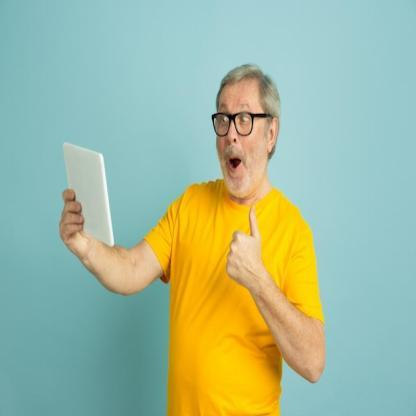thumb_up: (223, 202, 266, 290)
